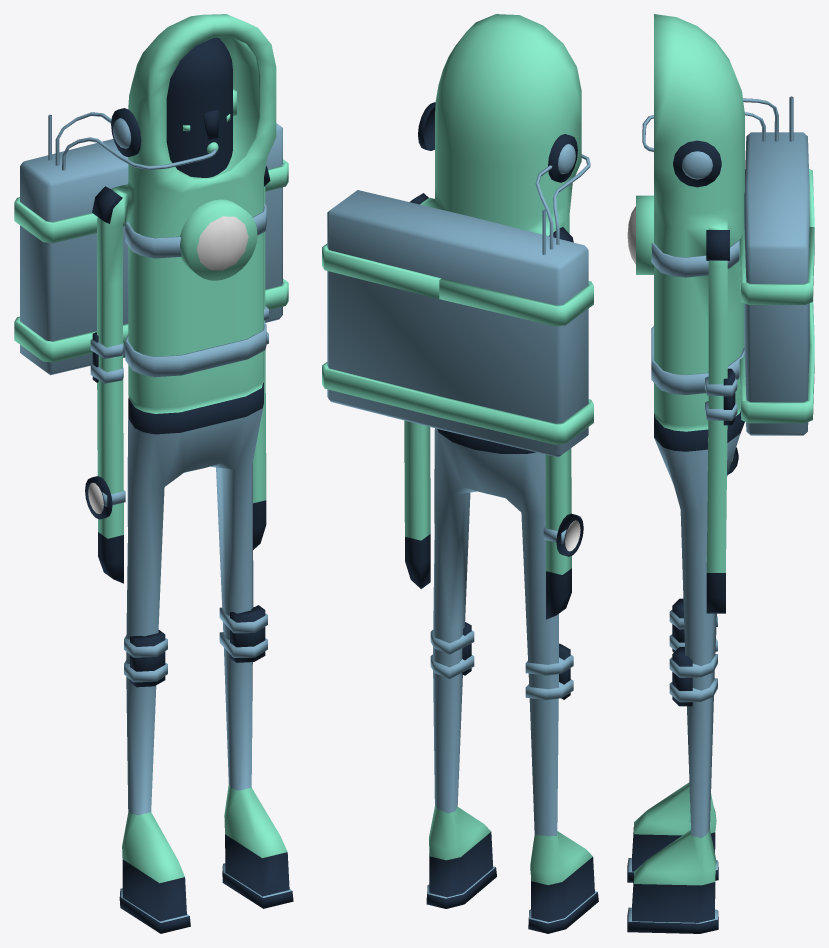
File: char_traveler_export.dae
The picture shows the model from 3 angles, left to right: view 1: azimuth 30°, elevation 25°; view 2: azimuth 150°, elevation 25°; view 3: azimuth 270°, elevation 25°; orthographic projection.
Parts seen in each view (by area): view 1: Cube_001; view 2: Cube_001; view 3: Cube_001.
Part boxes in pixels (x1,y1,x2,y2): Cube_001: [14, 14, 293, 933]; Cube_001: [322, 14, 598, 933]; Cube_001: [627, 14, 814, 933].
Bounding box in the file's own units: 0.2898 × 0.1936 × 1.
